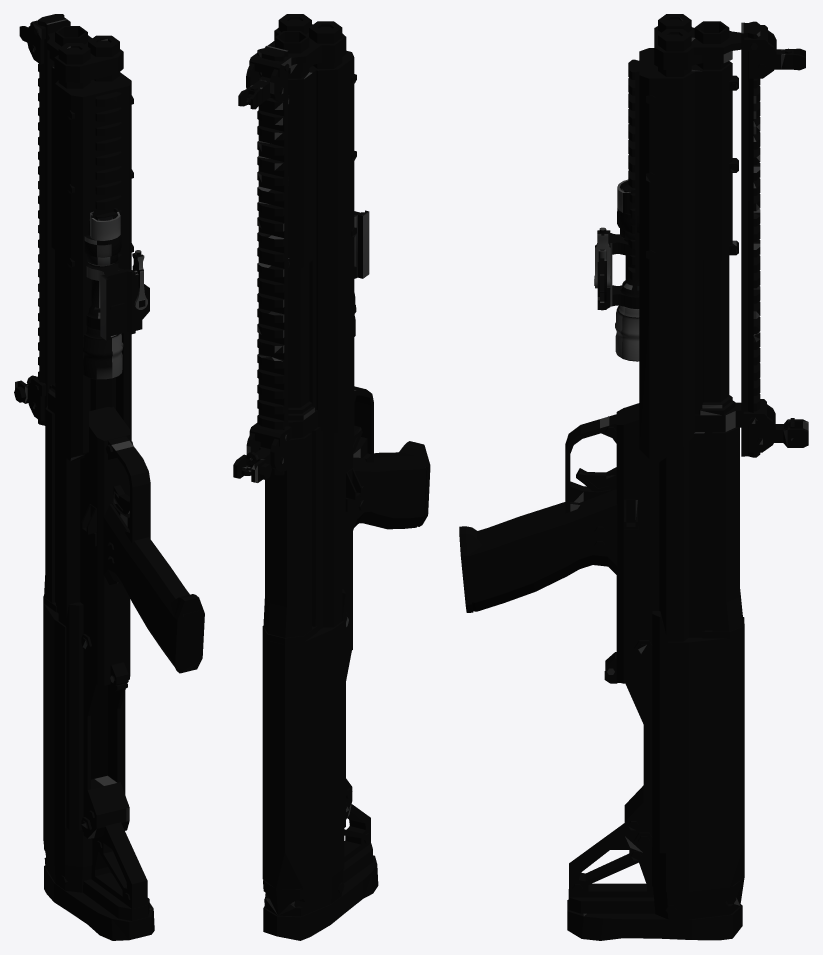
Rendered from KSG__Light_Weapon.fbx.
The picture shows the model from 3 angles, left to right: view 1: azimuth 30°, elevation 25°; view 2: azimuth 150°, elevation 25°; view 3: azimuth 270°, elevation 25°; orthographic projection. The views are drawn at different scales.
Visible parts, largest first — view 1: asset_KSG.001; view 2: asset_KSG.001; view 3: asset_KSG.001.
Boxes of the visible parts, <box> form: asset_KSG.001: <box>14,14,204,940</box>; asset_KSG.001: <box>233,14,430,940</box>; asset_KSG.001: <box>459,14,808,940</box>.
Bounding box in the file's own units: 0.03 × 0.396 × 0.139.
